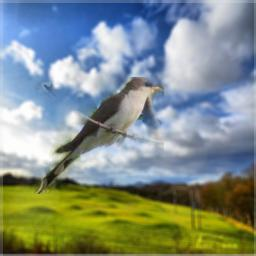Cuckoo: (34, 77, 164, 194)
